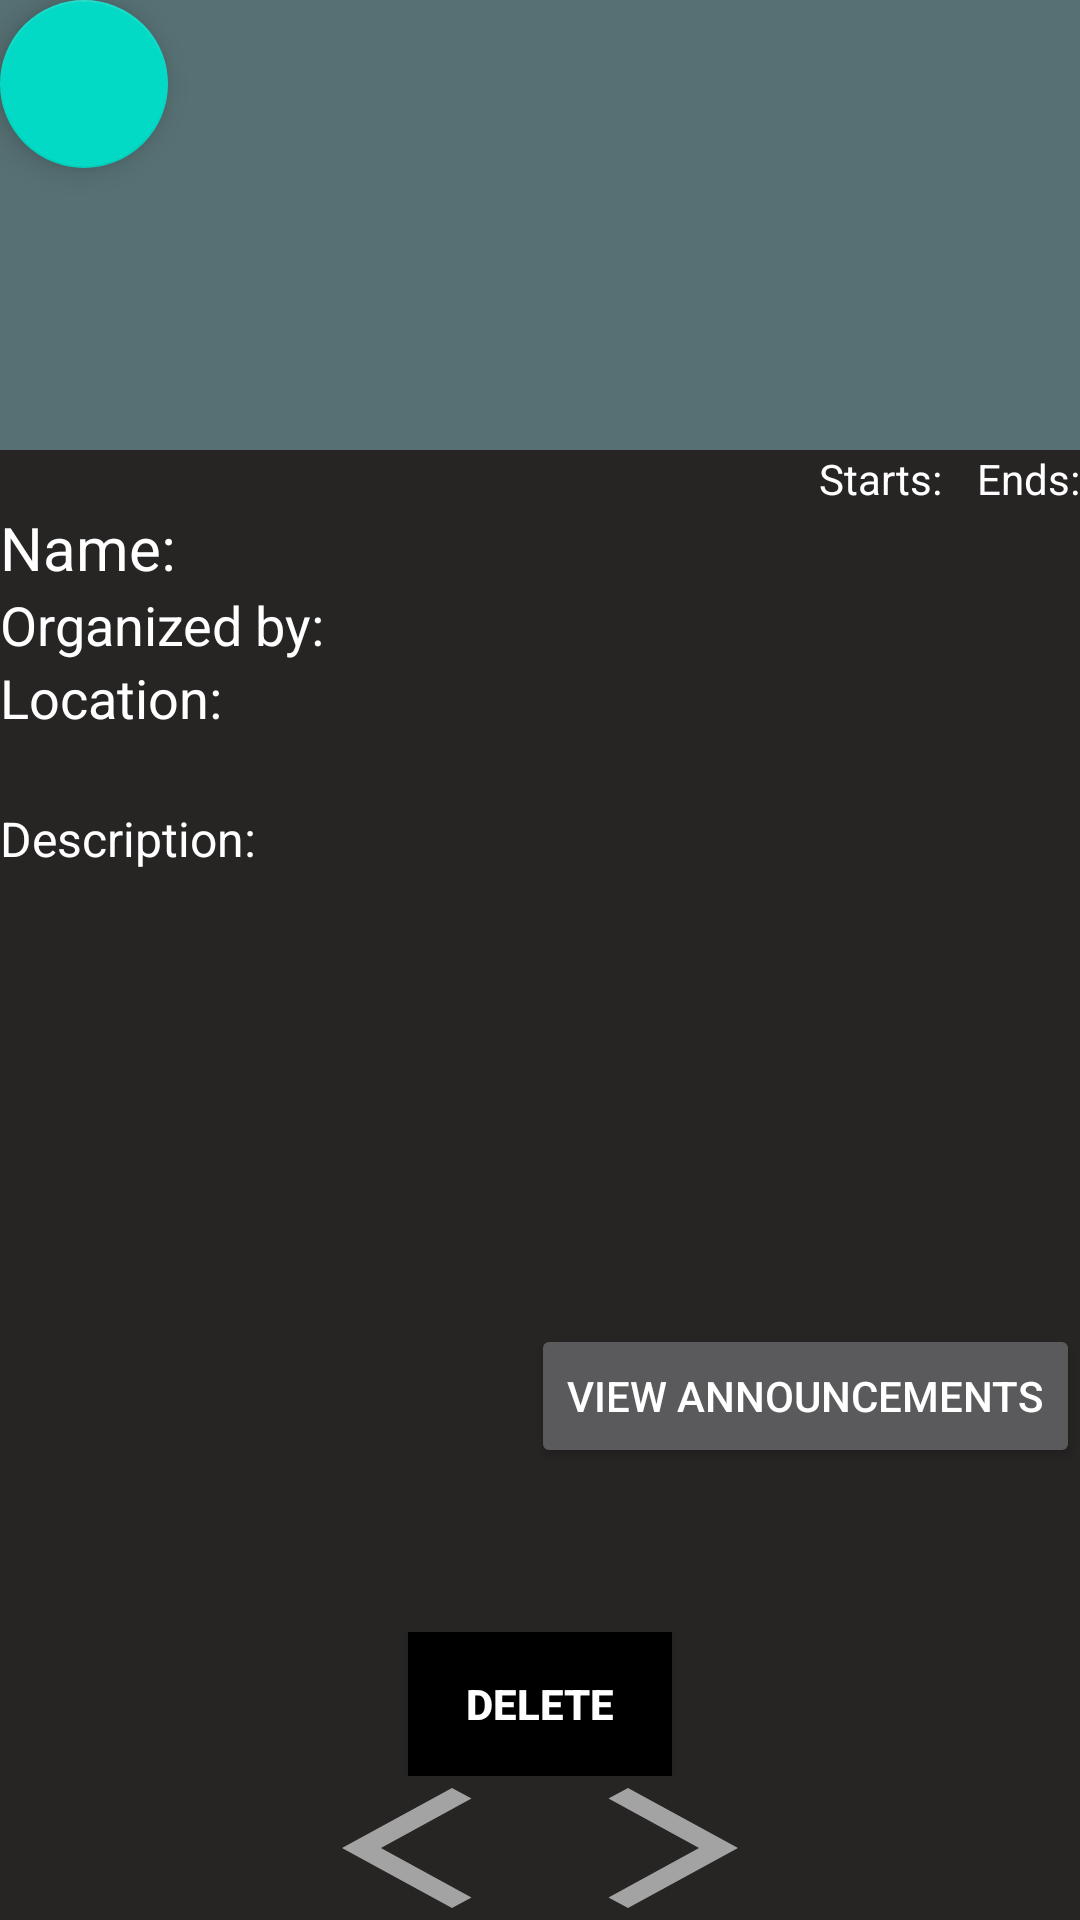

Where icons sit on this 1080x1920 app screen, as detection(x1, y1, x2, y2):
arrow back: detection(342, 1788, 471, 1908)
arrow forward: detection(609, 1788, 738, 1908)
